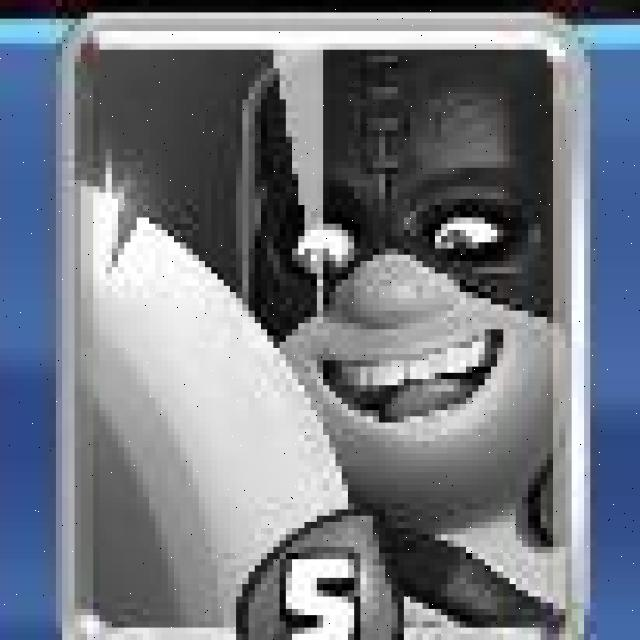Executioner: (50, 12, 592, 640)
